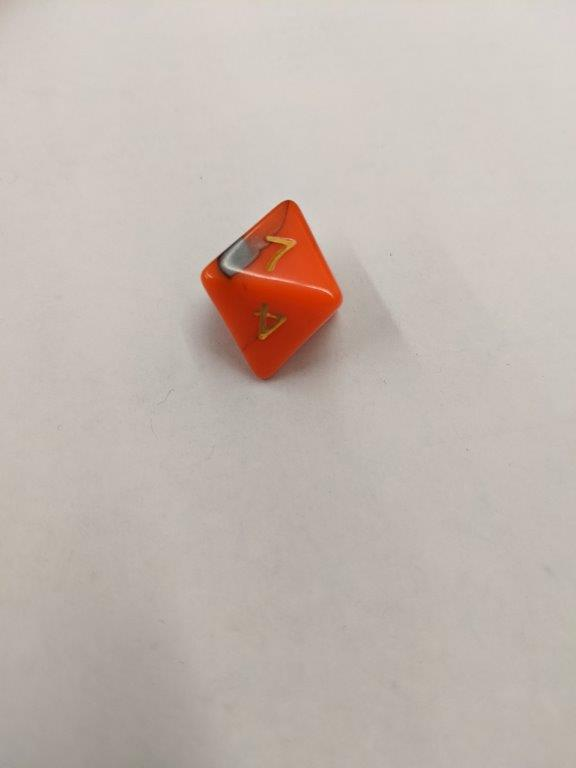d8-7: (199, 198, 343, 383)
